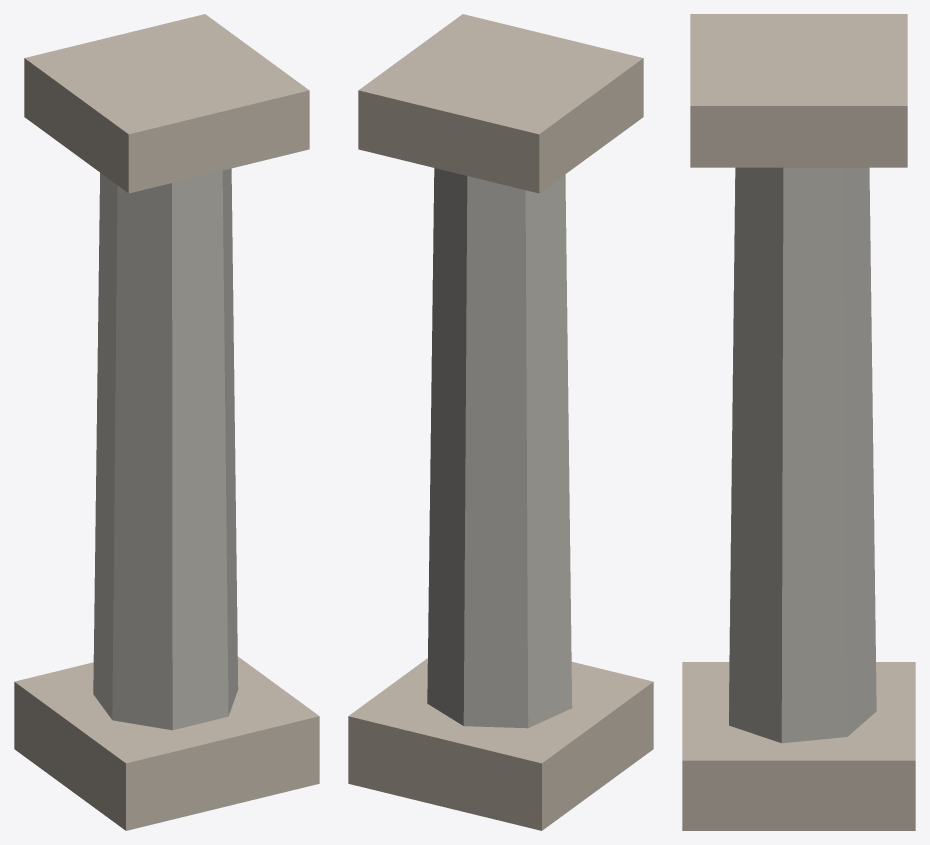
The model's file is column_v15.glb.
The picture shows the model from 3 angles, left to right: view 1: azimuth 30°, elevation 25°; view 2: azimuth 150°, elevation 25°; view 3: azimuth 270°, elevation 25°; orthographic projection. The views are drawn at different scales.
Visible parts, largest first — view 1: lod0; view 2: lod0; view 3: lod0.
Part boxes in pixels (x1,y1,x2,y2): lod0: (14,14,319,830); lod0: (348,14,653,830); lod0: (682,14,915,830).
Size of what is drawn, in the model's own units: 0.48 by 1.64 by 0.48.
